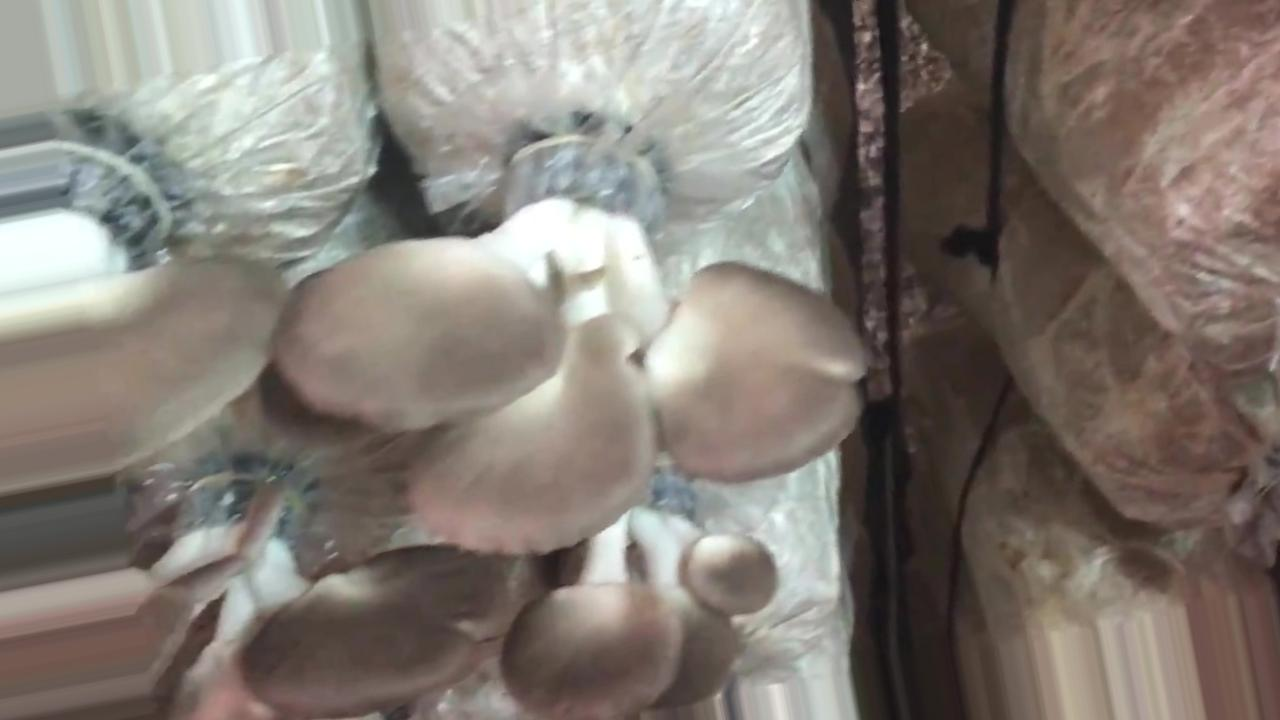nam: (282, 142, 861, 557), (1, 459, 505, 716), (1, 105, 281, 484), (502, 475, 775, 720)
